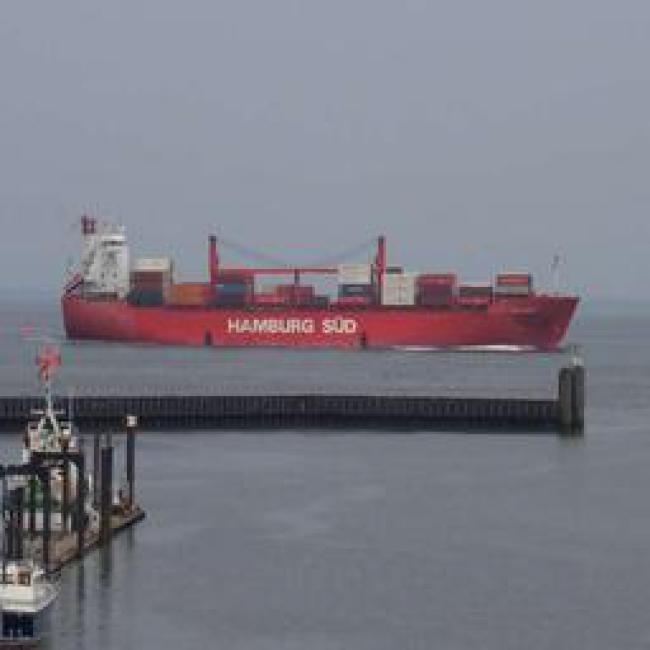Ship: (58, 222, 595, 362)
